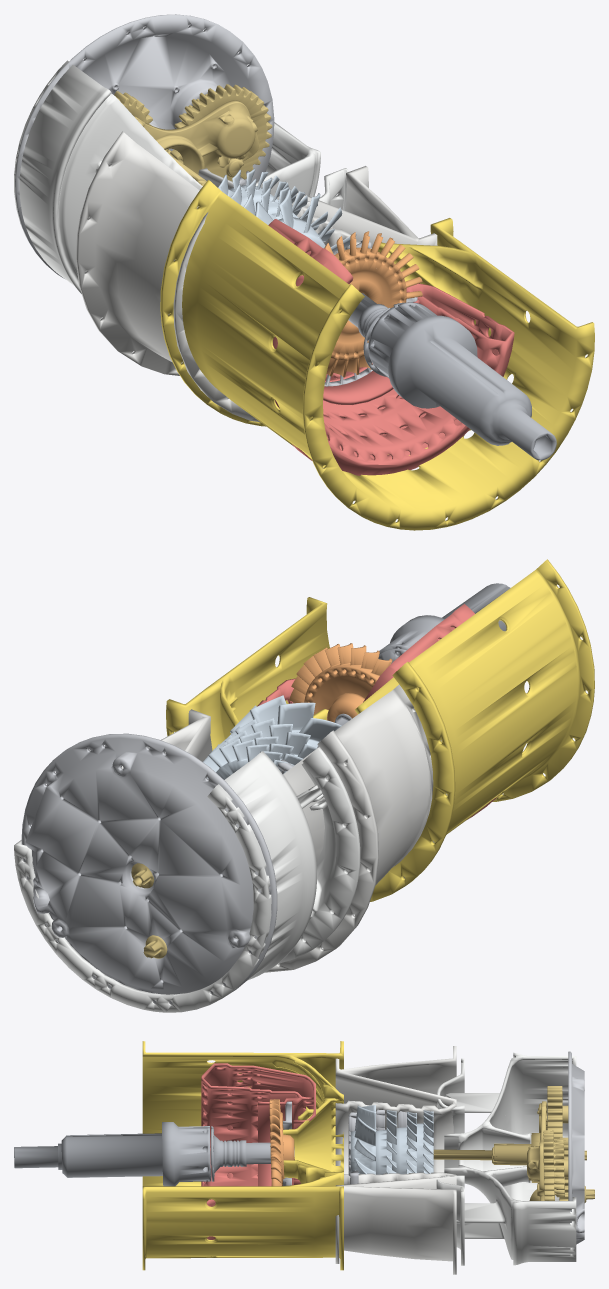
File: pt6a27_cutaway_parts.glb
3 views of the same model, one above another, from view 1: azimuth 30°, elevation 25°; view 2: azimuth 150°, elevation 25°; view 3: azimuth 270°, elevation 25° (orthographic). The views are drawn at different scales.
Visible parts, largest first — view 1: PT6A27_Combustion_Chamber_Outer, PT6A27_Compressor_Casing, PT6A27_Air_Inlet_Top, PT6A27_Accessory_Cheese_Plate, PT6A27_Combustion_Liner, PT6A27_Compressor_Shaft, PT6A27_Turbine_Wheel, PT6A27_Front_Gear_Cover, PT6A27_Accessory_Gear_Large_2, PT6A27_Compressor_Stage_1, PT6A27_Turbine_Shaft, PT6A27_Compressor_Stage_4 (+3 smaller); view 2: PT6A27_Accessory_Cheese_Plate, PT6A27_Combustion_Chamber_Outer, PT6A27_Compressor_Casing, PT6A27_Air_Inlet_Top, PT6A27_Air_Inlet_Bottom, PT6A27_Turbine_Wheel, PT6A27_Compressor_Stage_1, PT6A27_Combustion_Liner, PT6A27_Compressor_Shaft, PT6A27_Compressor_Stage_4, PT6A27_Compressor_Stage_2, PT6A27_Compressor_Stage_3; view 3: PT6A27_Combustion_Chamber_Outer, PT6A27_Compressor_Casing, PT6A27_Air_Inlet_Top, PT6A27_Combustion_Liner, PT6A27_Compressor_Shaft, PT6A27_Accessory_Cheese_Plate, PT6A27_Air_Inlet_Bottom, PT6A27_Turbine_Shaft, PT6A27_Compressor_Stage_1, PT6A27_Accessory_Gear_Large_2, PT6A27_Turbine_Wheel, PT6A27_Front_Gear_Cover (+7 smaller).
Boxes of the visible parts, x1,y1,x2,y2 form: PT6A27_Combustion_Chamber_Outer: [160, 180, 594, 530]; PT6A27_Compressor_Casing: [76, 131, 437, 422]; PT6A27_Air_Inlet_Top: [14, 60, 320, 294]; PT6A27_Accessory_Cheese_Plate: [15, 14, 274, 278]; PT6A27_Combustion_Liner: [268, 219, 514, 475]; PT6A27_Compressor_Shaft: [368, 302, 556, 460]; PT6A27_Turbine_Wheel: [324, 231, 422, 377]; PT6A27_Front_Gear_Cover: [133, 100, 258, 181]; PT6A27_Accessory_Gear_Large_2: [170, 84, 272, 179]; PT6A27_Compressor_Stage_1: [255, 188, 356, 252]; PT6A27_Turbine_Shaft: [348, 293, 404, 376]; PT6A27_Compressor_Stage_4: [213, 168, 301, 215]; PT6A27_Accessory_Cheese_Plate: [21, 733, 277, 1004]; PT6A27_Combustion_Chamber_Outer: [166, 559, 594, 901]; PT6A27_Compressor_Casing: [121, 684, 447, 972]; PT6A27_Air_Inlet_Top: [14, 751, 322, 1012]; PT6A27_Air_Inlet_Bottom: [278, 747, 360, 963]; PT6A27_Turbine_Wheel: [289, 643, 392, 722]; PT6A27_Compressor_Stage_1: [230, 695, 341, 747]; PT6A27_Combustion_Liner: [257, 604, 498, 819]; PT6A27_Compressor_Shaft: [379, 583, 510, 655]; PT6A27_Compressor_Stage_4: [203, 738, 294, 779]; PT6A27_Compressor_Stage_2: [229, 718, 317, 758]; PT6A27_Compressor_Stage_3: [215, 730, 302, 765]; PT6A27_Combustion_Chamber_Outer: [142, 1041, 343, 1270]; PT6A27_Compressor_Casing: [335, 1046, 456, 1274]; PT6A27_Air_Inlet_Top: [444, 1052, 576, 1265]; PT6A27_Combustion_Liner: [201, 1063, 315, 1239]; PT6A27_Compressor_Shaft: [14, 1122, 210, 1186]; PT6A27_Accessory_Cheese_Plate: [568, 1051, 584, 1244]; PT6A27_Air_Inlet_Bottom: [436, 1058, 464, 1265]; PT6A27_Turbine_Shaft: [211, 1126, 294, 1181]; PT6A27_Compressor_Stage_1: [350, 1105, 375, 1174]; PT6A27_Accessory_Gear_Large_2: [543, 1130, 568, 1200]; PT6A27_Turbine_Wheel: [269, 1099, 294, 1186]; PT6A27_Front_Gear_Cover: [527, 1101, 546, 1200].
Bounding box in the file's own units: 188 × 179 × 462.
